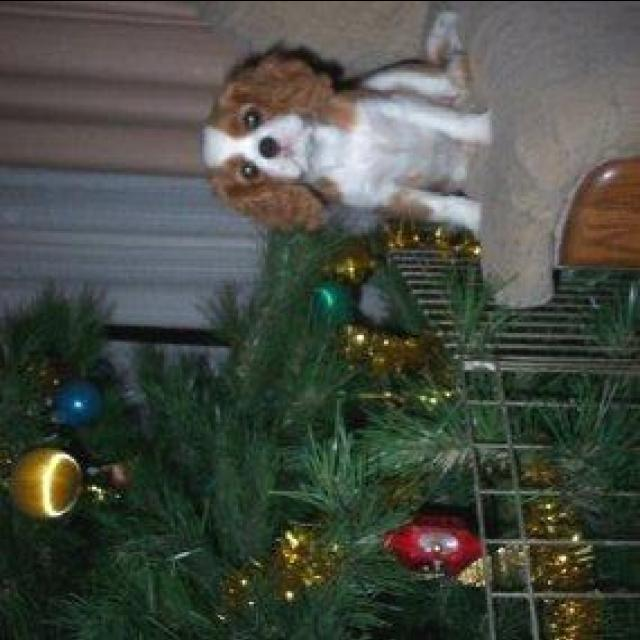blenheim_spaniel: (193, 8, 490, 238)
